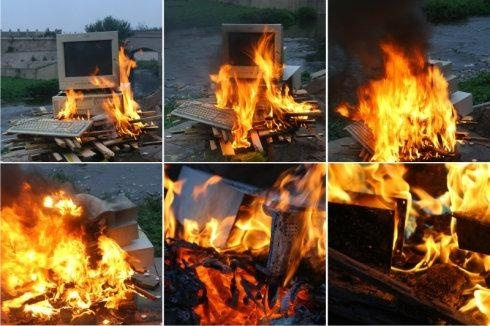fire: (0, 184, 136, 321), (325, 163, 490, 270), (165, 165, 331, 253), (339, 41, 461, 158), (210, 27, 318, 149), (187, 258, 302, 325), (90, 43, 142, 132), (56, 85, 83, 120)
